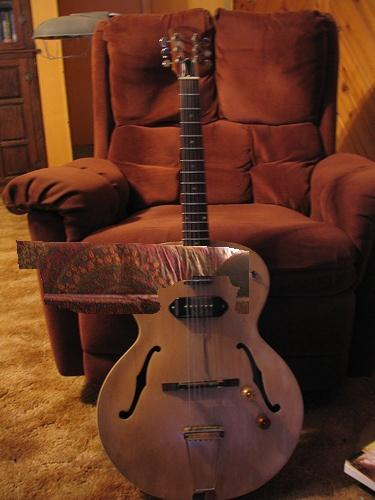tampered: (17, 241, 249, 314)
